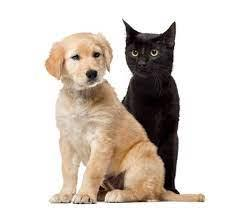cat: (112, 17, 192, 105)
dog: (31, 32, 119, 201)
